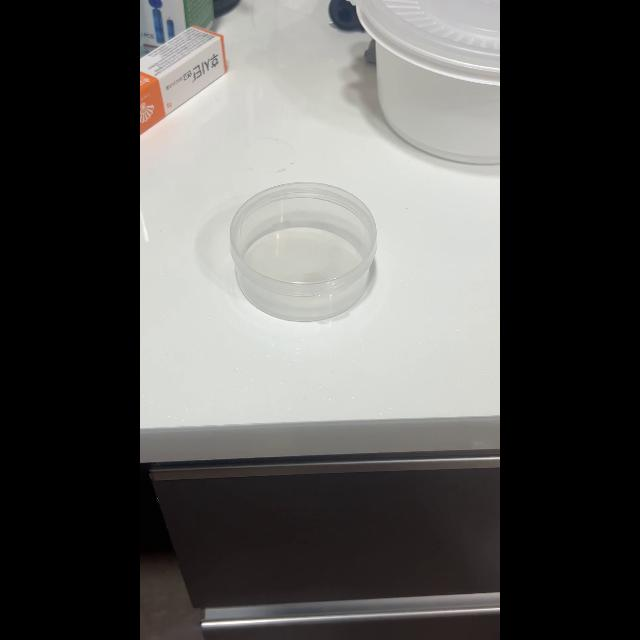clean: (229, 180, 377, 320)
